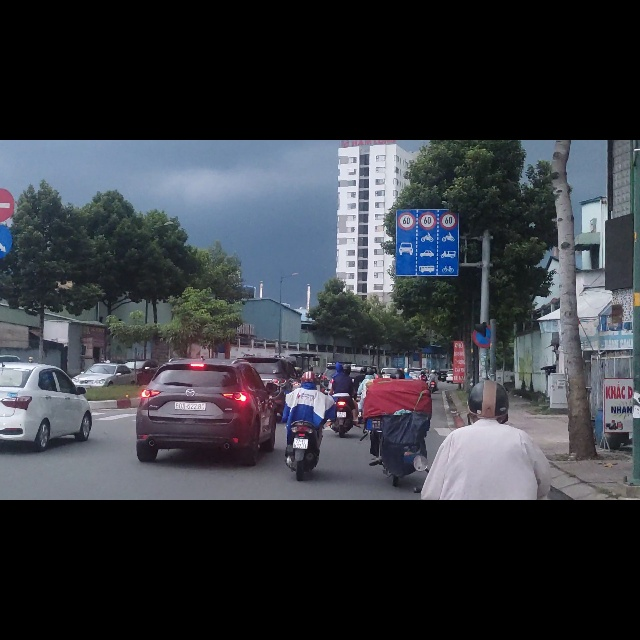bien_chi_dan: (396, 162, 459, 242), (472, 328, 497, 368), (419, 127, 437, 159), (398, 129, 415, 160), (441, 127, 458, 158)
